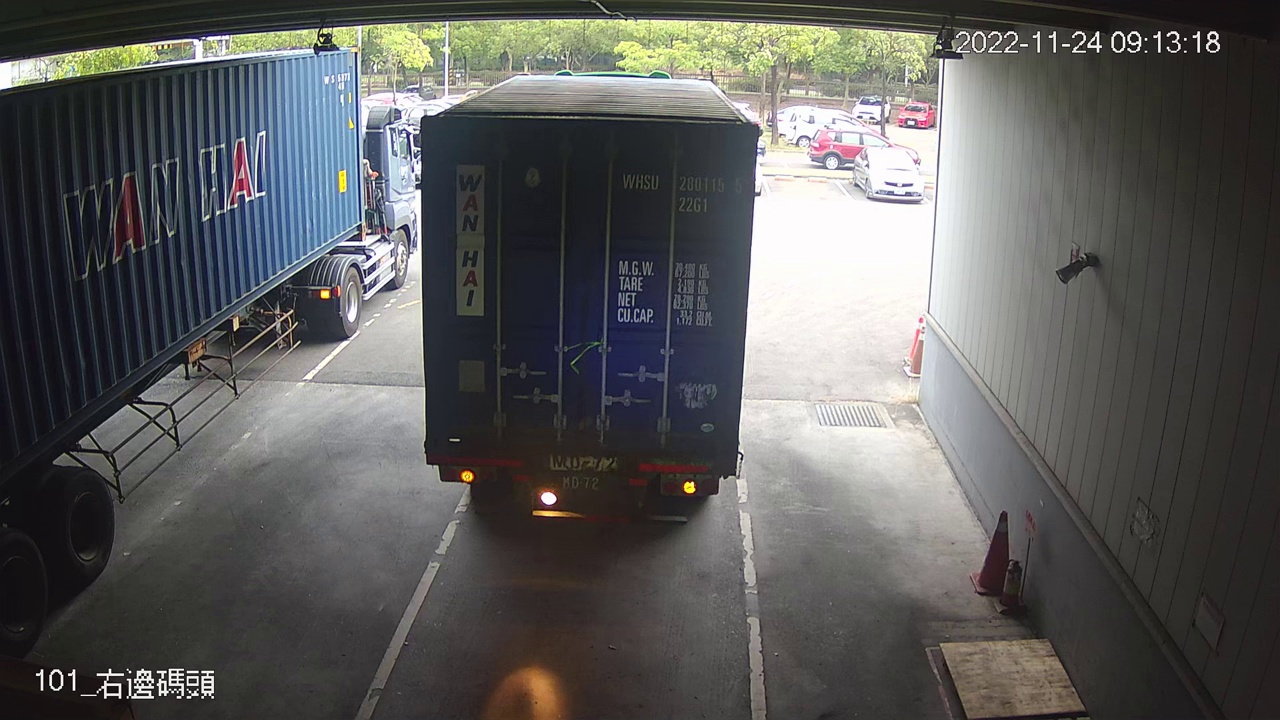container: (617, 167, 747, 218)
